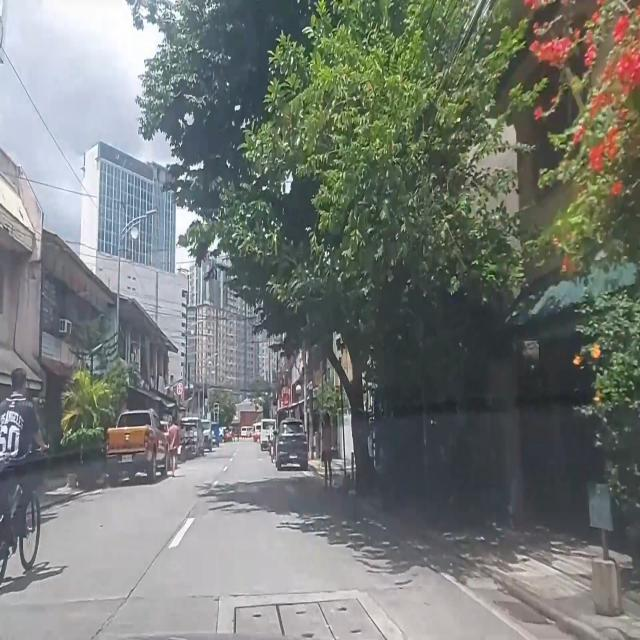bike: (0, 368, 46, 586)
car: (106, 408, 169, 484), (274, 417, 308, 470), (260, 418, 276, 451)
tricycle: (178, 422, 198, 463), (270, 431, 276, 464)
